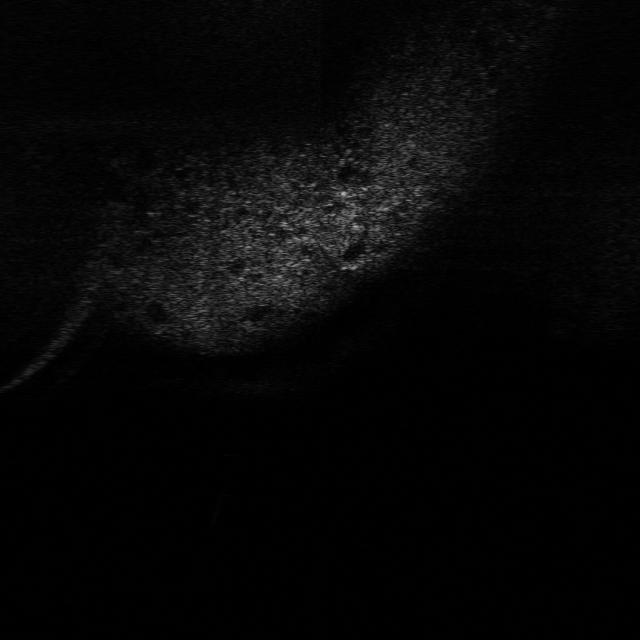cube: (213, 444, 267, 472)
